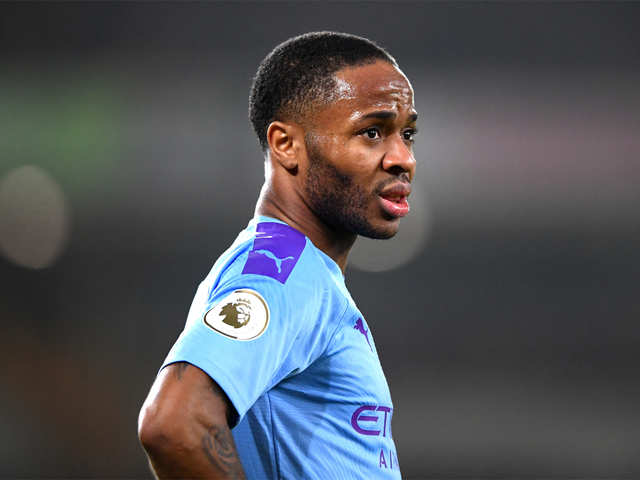NoMask: (329, 100, 420, 241)
